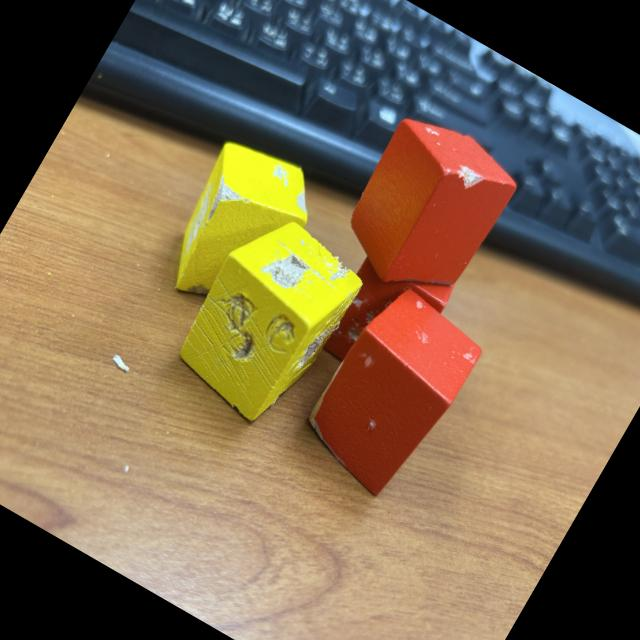broken: (161, 202, 373, 437), (290, 276, 492, 507), (327, 102, 528, 316), (148, 128, 334, 334), (314, 236, 459, 394)
